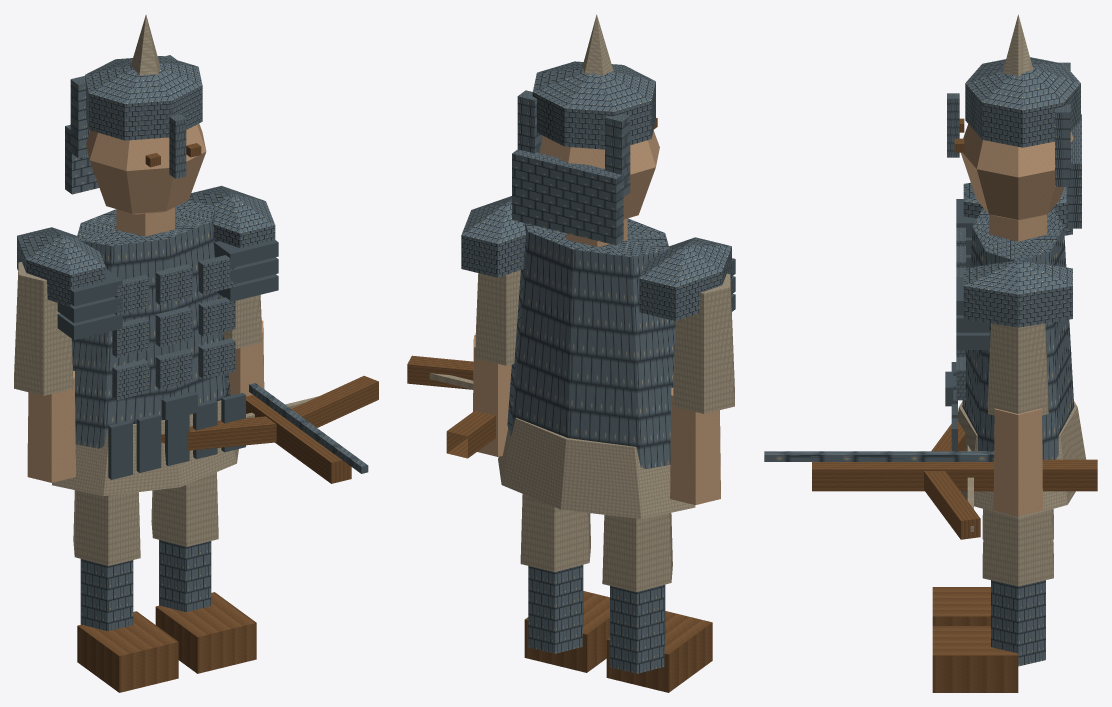
File: unit-CROSSBOW-lod0.glb
The picture shows the model from 3 angles, left to right: view 1: azimuth 30°, elevation 25°; view 2: azimuth 150°, elevation 25°; view 3: azimuth 270°, elevation 25°; orthographic projection. The views are drawn at different scales.
Bounding box in the file's own units: 0.2499 × 0.448 × 0.21.
1 material, 1 textured.
